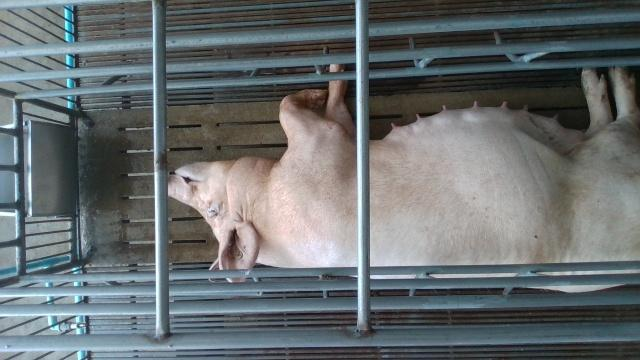sow-sleep-lactate: (168, 65, 640, 294)
